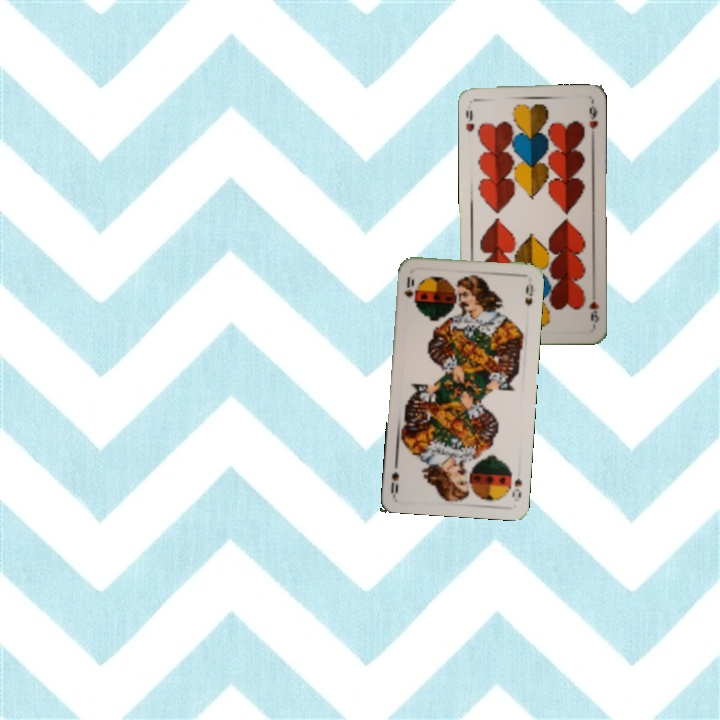H9: (585, 288, 602, 325), (462, 106, 477, 135)
SO: (400, 273, 418, 305), (508, 474, 524, 501)
